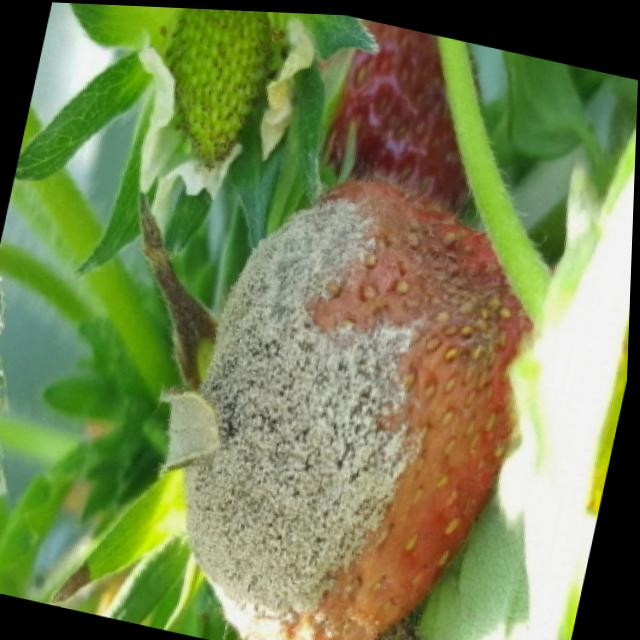Gray Mold: (160, 176, 538, 640)
